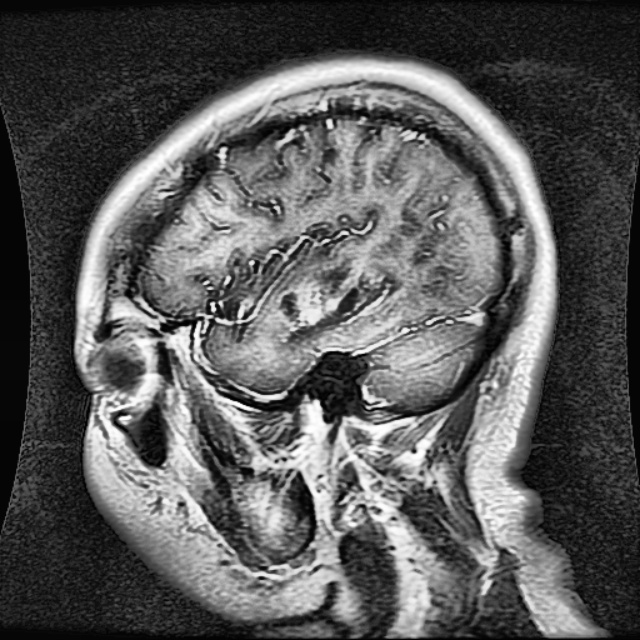Meningioma: (278, 282, 370, 342)
